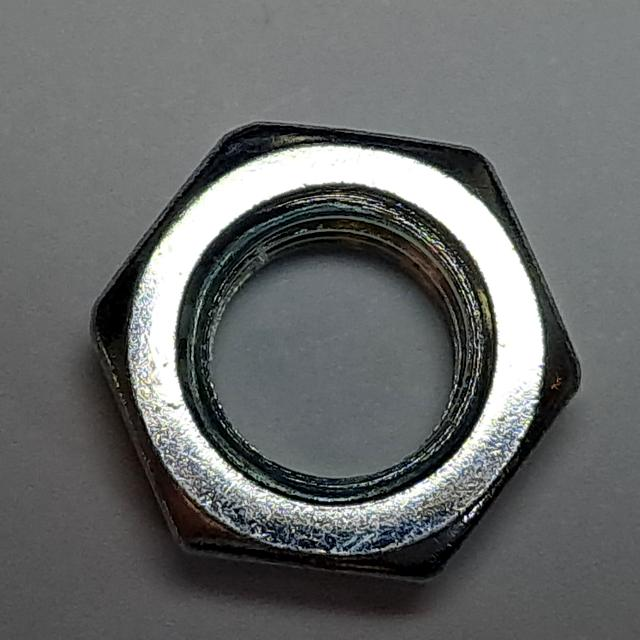Excellent: (70, 107, 597, 600)
